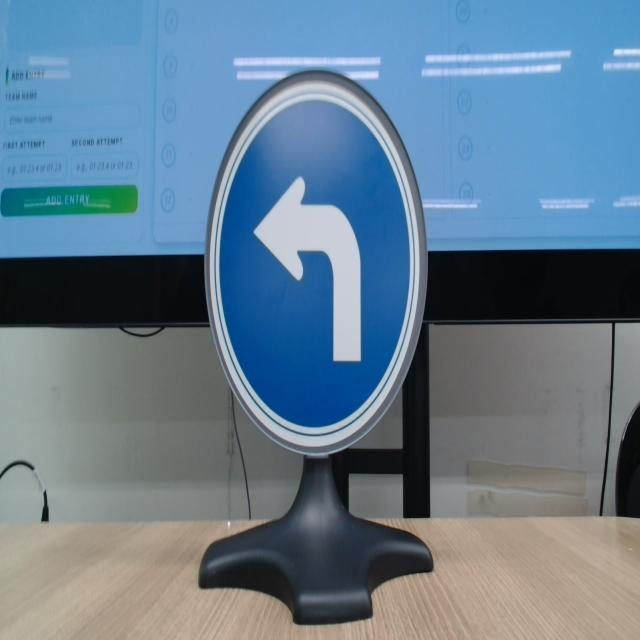left_direction: (198, 60, 433, 470)
